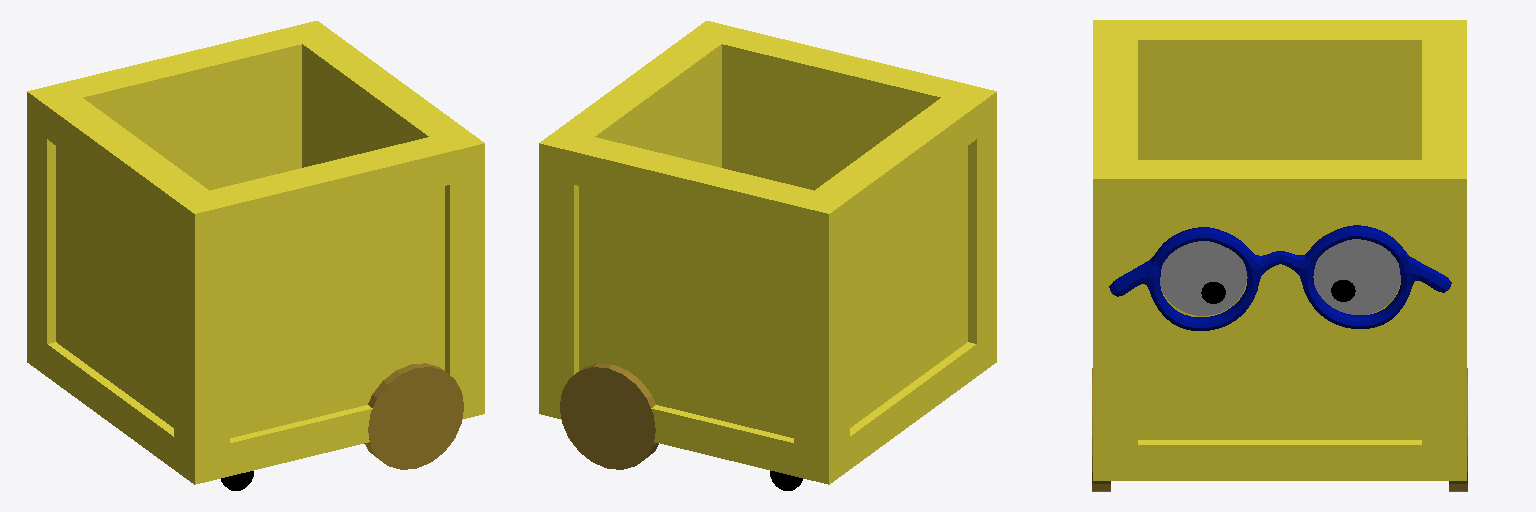
robot.urdf — ranger:
<?xml version="1.0" ?>
<robot name="ranger">
  <link name="base_link"/>
  <link name="camera_link"/>
  <link name="depth_camera_link"/>
  <link name="rgb_camera_link"/>
  <link name="ir_left"/>
  <link name="ir_center"/>
  <link name="ir_right"/>
  <link name="l_wheel_link">
    <intertial>
      <mass value="0.26"/>
      <origin xyz="0.0 0.0 0.0"/>
    </intertial>
  </link>
  <link name="r_wheel_link">
    <intertial>
      <mass value="0.26"/>
      <origin xyz="0.0 0.0 0.0"/>
    </intertial>
  </link>
  <link name="l_eye_link">
    <intertial>
      <mass value="0.01"/>
      <origin xyz="0.0 0.0 0.0"/>
    </intertial>
  </link>
  <link name="r_eye_link">
    <intertial>
      <mass value="0.01"/>
      <origin xyz="0.0 0.0 0.0"/>
    </intertial>
  </link>
  <link name="box">
    <visual>
      <origin rpy="0.0 -0.0 0.0" xyz="0.0 0.0 0.0"/>
      <geometry>
          <mesh filename="package://ranger_description/urdf/meshes/ranger.dae"/>
      </geometry>
    </visual>
    <intertial>
      <mass value="3.26"/>
      <origin xyz="-0.049489 0.000892912 -0.0408259"/>
    </intertial>
  </link>
  <joint name="base_link_camera_joint" type="fixed">
	<parent link="base_link"/>
	<child link="camera_link"/>
	<origin rpy="0 0.0 0.0" xyz="0.055 0.0 0.36"/>
  </joint>
  <joint name="base_link_depth_camera_joint" type="fixed">
    <parent link="base_link"/>
    <child link="depth_camera_link"/>
    <origin rpy="0 0.0 0.0" xyz="0.055 0.050 0.36"/>
  </joint>
  <joint name="base_link_rgb_camera_joint" type="fixed">
    <parent link="base_link"/>
    <child link="rgb_camera_link"/>
    <origin rpy="0 0.0 0.0" xyz="0.055 0.024 0.36"/>
  </joint>
  <joint name="base_link_box_joint" type="fixed">
    <parent link="base_link"/>
    <child link="box"/>
    <origin rpy="0 0.0 0.0" xyz="0.0 0.0 0.0"/>
  </joint>
  <joint name="base_link_l_wheel_joint" type="fixed">
    <parent link="base_link"/>
    <child link="l_wheel_link"/>
    <origin rpy="1.52 0.0 0.0" xyz="0.0 -0.16 0.053"/>
  </joint>
  <joint name="base_link_r_wheel_joint" type="fixed">
    <parent link="base_link"/>
    <child link="r_wheel_link"/>
    <origin rpy="-1.52 0.0 0.0" xyz="0.0 0.16 0.053"/>
  </joint>
  <joint name="base_link_l_eye_joint" type="fixed">
    <parent link="base_link"/>
    <child link="l_eye_link"/>
    <origin rpy="0.0 1.52 0.0" xyz="0.055 -0.055 0.242"/>
  </joint>
  <joint name="base_link_r_eye_joint" type="fixed">
    <parent link="base_link"/>
    <child link="r_eye_link"/>
    <origin rpy="0.0 1.52 0.0" xyz="0.055 0.055 0.242"/>
  </joint>

  <joint name="base_link_ir_left_joint" type="fixed">
    <parent link="base_link"/>
    <child link="ir_left"/>
    <origin rpy="0.0 0.0 0.0" xyz="0.08 0.115 0.073"/>
  </joint>
  <joint name="base_link_ir_center_joint" type="fixed">
    <parent link="base_link"/>
    <child link="ir_center"/>
    <origin rpy="0.0 0.0 0.0" xyz="0.08 0.0 0.073"/>
  </joint>
  <joint name="base_link_ir_right_joint" type="fixed">
    <parent link="base_link"/>
    <child link="ir_right"/>
    <origin rpy="0.0 0.0 0.0" xyz="0.08 -0.115 0.073"/>
  </joint>


</robot>

--- What the picture shows (computed from the rendered views, not written in the file) ---
3 views of the same robot in one strip: view 1: azimuth 30°, elevation 25°; view 2: azimuth 150°, elevation 25°; view 3: azimuth 270°, elevation 25° (orthographic).
Model ranger with 12 links and 11 joints (11 fixed), rooted at base_link, posed every joint at zero.
Links seen in each view (by area): view 1: box; view 2: box; view 3: box.
Boxes of the visible links, <box> form: box: <box>27,21,484,490</box>; box: <box>539,21,996,490</box>; box: <box>1092,20,1467,491</box>.
Size in the robot's own frame: 0.3278 by 0.3203 by 0.3249 metres.
1 mesh visuals loaded from 1 distinct referenced files (1 Collada DAE).